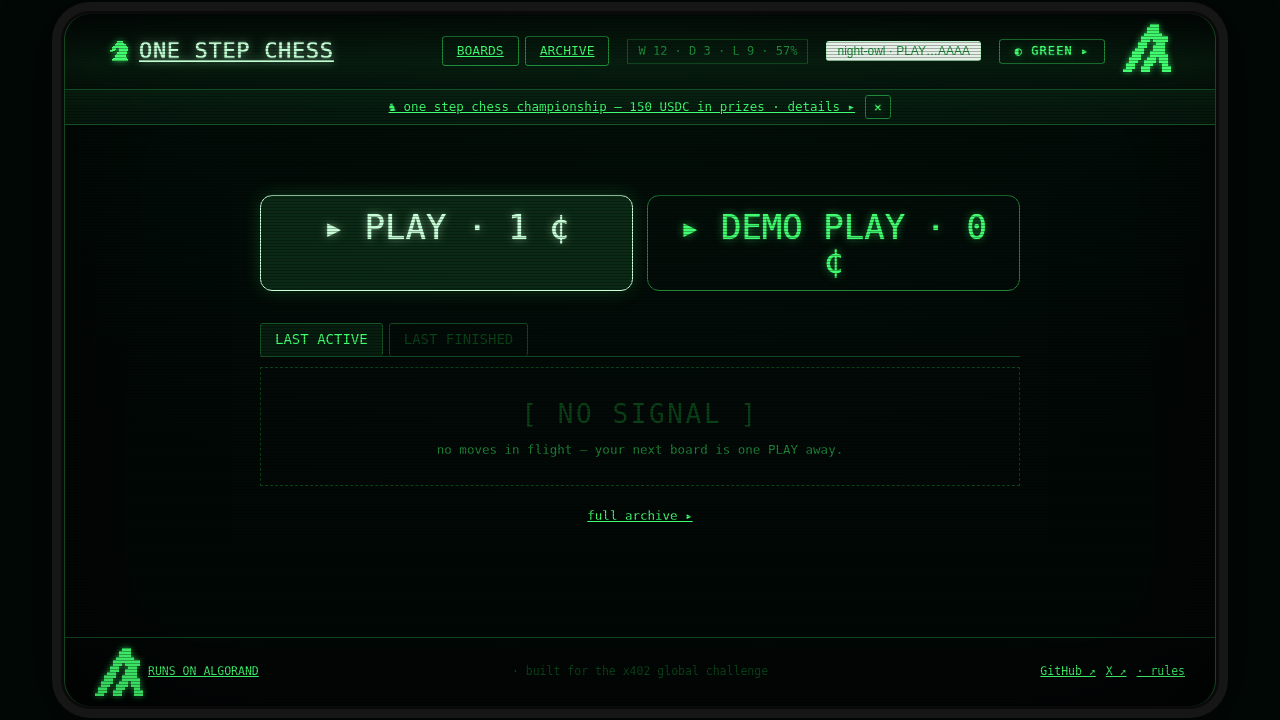
it: Release 2 live human surfaces › consumes a game-available nudge when the claim recheck finds no boards
This screenshot has width=1280, height=720.
Click the button "▸ PLAY · 1 ¢" at [446, 243], box [260,195,633,291]
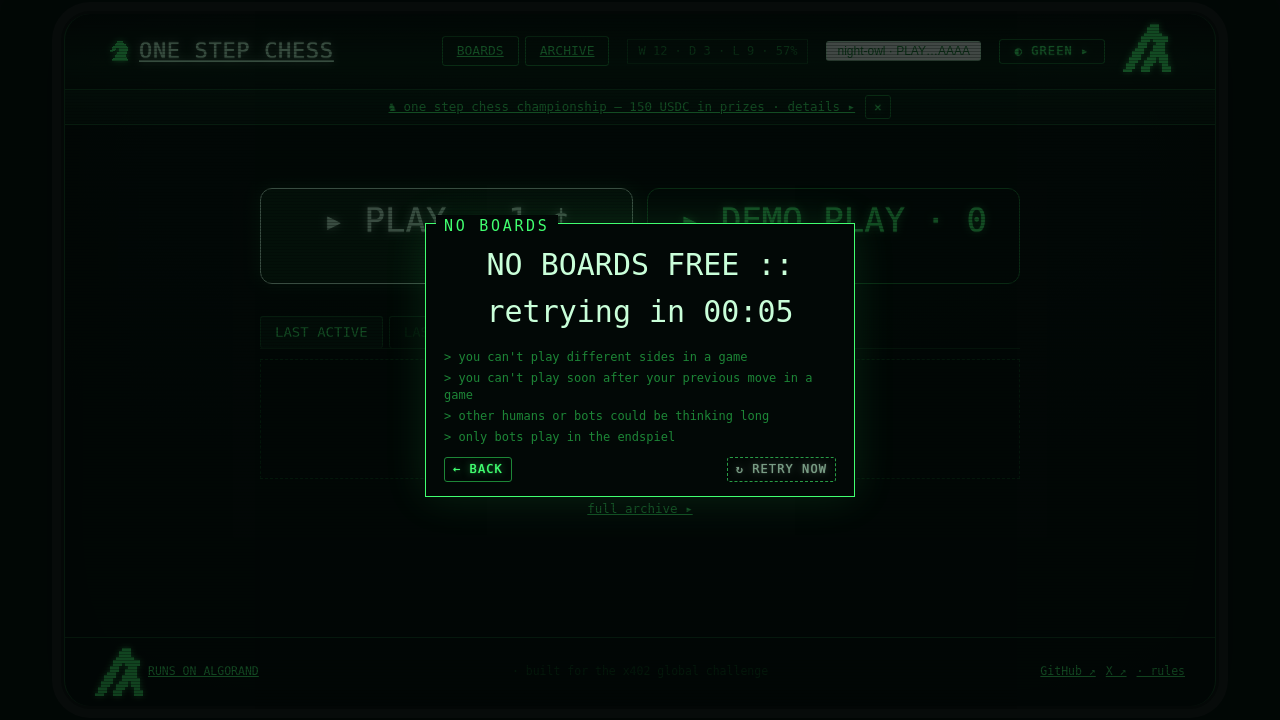
expect the text "NO BOARDS FREE :: retrying in 00:05" is shown: met, box [486,247,794,329]
